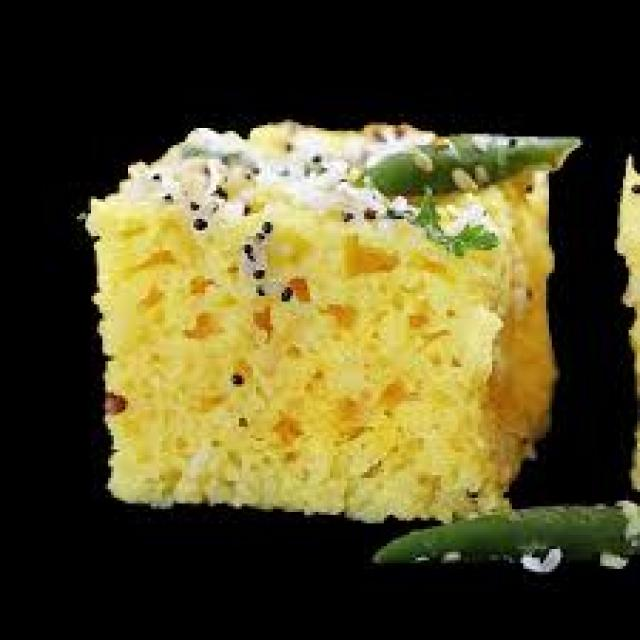DHOKLA: (85, 122, 577, 521)
